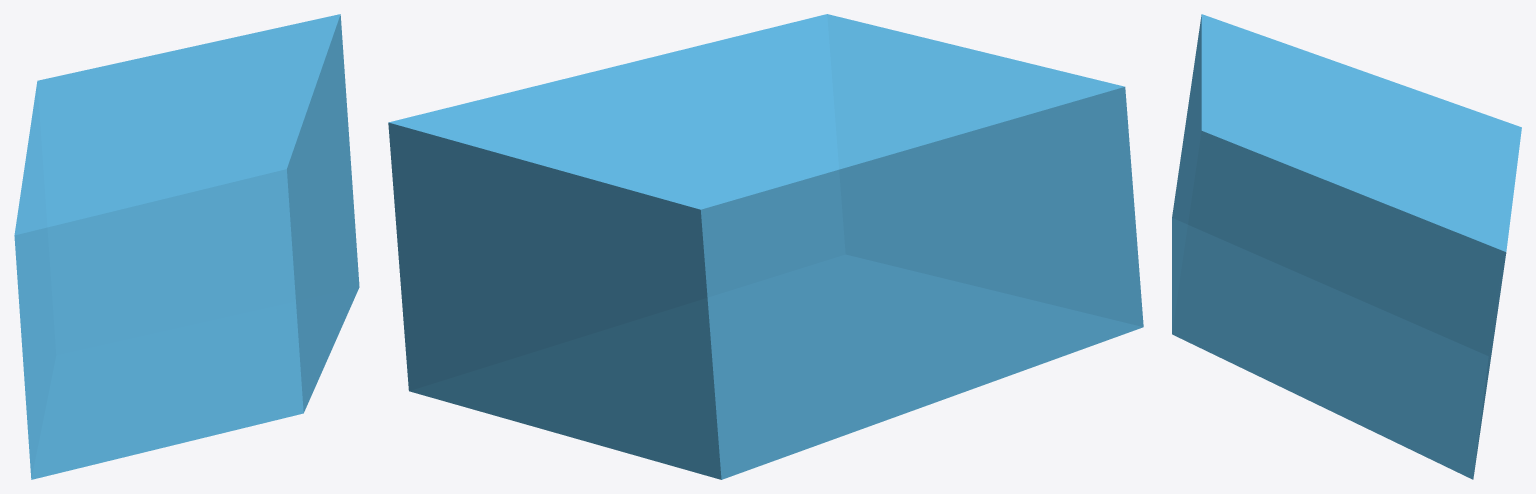
Rendered from Event_420107950_HBrechit_28.fbx.
The picture shows the model from 3 angles, left to right: view 1: azimuth 30°, elevation 25°; view 2: azimuth 150°, elevation 25°; view 3: azimuth 270°, elevation 25°; orthographic projection. The views are drawn at different scales.
Visible parts, largest first — view 1: Model; view 2: Model; view 3: Model.
Part boxes in pixels (bbox=[...]): Model: bbox=[14, 14, 359, 479]; Model: bbox=[388, 14, 1143, 479]; Model: bbox=[1172, 14, 1521, 479].
Size of the model in its own units: 0.8975 by 0.4972 by 0.62.
